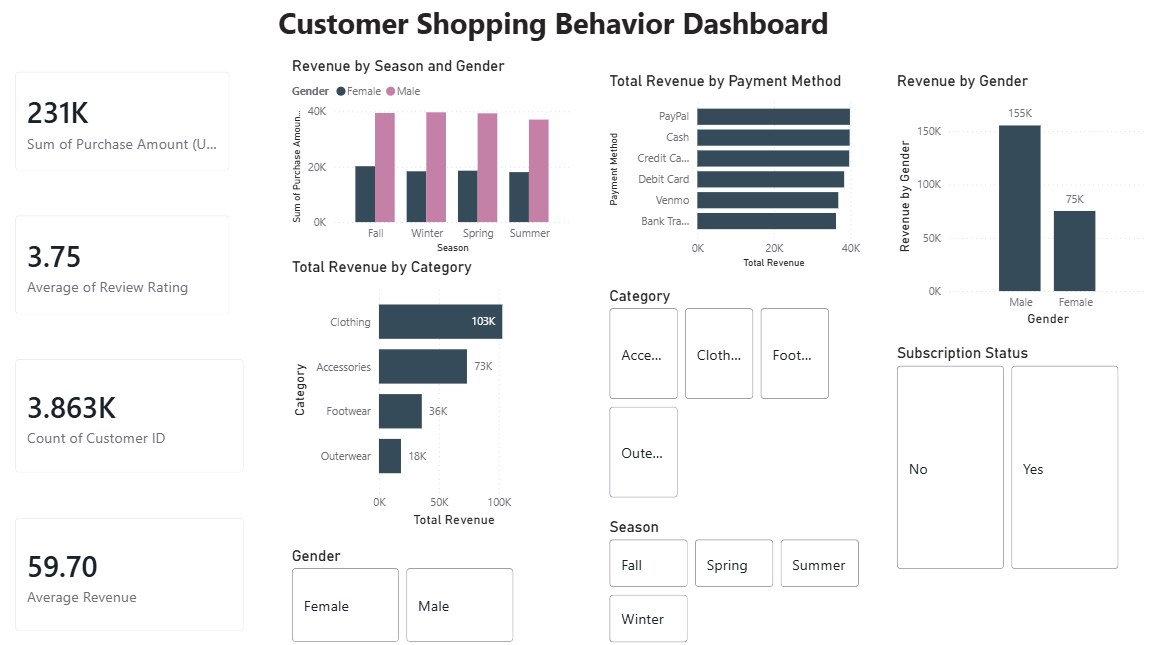

The page's visual inventory and layout, read from the dashboard file:
{"tool":"powerbi","page":{"name":"Page 1","canvas":[1280,720],"ordinal":0},"visuals":[{"type":"cardVisual","fields":{"Data":["Sum(customer_shopping_behavior.Purchase Amount (USD))"]},"box":[0,64,272,144],"z":0},{"type":"cardVisual","title":"Average  Rating","fields":{"Data":["Avg(customer_shopping_behavior.Review Rating)"]},"box":[0,224,272,144],"z":1000},{"type":"clusteredColumnChart","title":"Revenue by Season and Gender","fields":{"Category":["customer_shopping_behavior.Season"],"Series":["customer_shopping_behavior.Gender"],"Y":["Sum(customer_shopping_behavior.Purchase Amount (USD))"]},"box":[320,64,320,224],"z":2000},{"type":"clusteredBarChart","fields":{"Category":["customer_shopping_behavior.Payment Method"],"Y":["customer_shopping_behavior.Total Revenue"]},"box":[672,80,288,224],"z":3000},{"type":"advancedSlicerVisual","fields":{"Values":["customer_shopping_behavior.Gender"]},"box":[320,608,256,112],"z":4000},{"type":"advancedSlicerVisual","fields":{"Values":["customer_shopping_behavior.Category"]},"box":[672,320,256,240],"z":5000},{"type":"advancedSlicerVisual","fields":{"Values":["customer_shopping_behavior.Season"]},"box":[672,576,288,144],"z":6000},{"type":"advancedSlicerVisual","fields":{"Values":["customer_shopping_behavior.Subscription Status"]},"box":[992,384,256,256],"z":7000},{"type":"cardVisual","fields":{"Data":["CountNonNull(customer_shopping_behavior.Customer ID)"]},"box":[0,384,288,160],"z":8000},{"type":"cardVisual","fields":{"Data":["customer_shopping_behavior.Average Revenue"]},"box":[0,560,288,160],"z":9000},{"type":"clusteredColumnChart","title":"Revenue by Gender","fields":{"Category":["customer_shopping_behavior.Gender"],"Y":["customer_shopping_behavior.Revenue by Gender"]},"box":[992,80,288,288],"z":10000},{"type":"clusteredBarChart","fields":{"Category":["customer_shopping_behavior.Category"],"Y":["customer_shopping_behavior.Total Revenue"]},"box":[320,288,288,304],"z":11000},{"type":"textbox","box":[304,0,688,48],"z":11001}]}

Visuals, with their boxes in screenshot pixels (x1, y1, x2, y2), scaled from the page's 1280x720 canvas onto the 1152x645 screenshot:
cardVisual - Sum(customer_shopping_behavior.Purchase Amount (USD)): 0/57/245/186
"Average  Rating" cardVisual: 0/201/245/330
"Revenue by Season and Gender" clusteredColumnChart: 288/57/576/258
clusteredBarChart - customer_shopping_behavior.Payment Method x customer_shopping_behavior.Total Revenue: 605/72/864/272
advancedSlicerVisual - customer_shopping_behavior.Gender: 288/545/518/644
advancedSlicerVisual - customer_shopping_behavior.Category: 605/287/835/502
advancedSlicerVisual - customer_shopping_behavior.Season: 605/516/864/644
advancedSlicerVisual - customer_shopping_behavior.Subscription Status: 893/344/1123/573
cardVisual - CountNonNull(customer_shopping_behavior.Customer ID): 0/344/259/487
cardVisual - customer_shopping_behavior.Average Revenue: 0/502/259/644
"Revenue by Gender" clusteredColumnChart: 893/72/1151/330
clusteredBarChart - customer_shopping_behavior.Category x customer_shopping_behavior.Total Revenue: 288/258/547/530
textbox: 274/0/893/43
